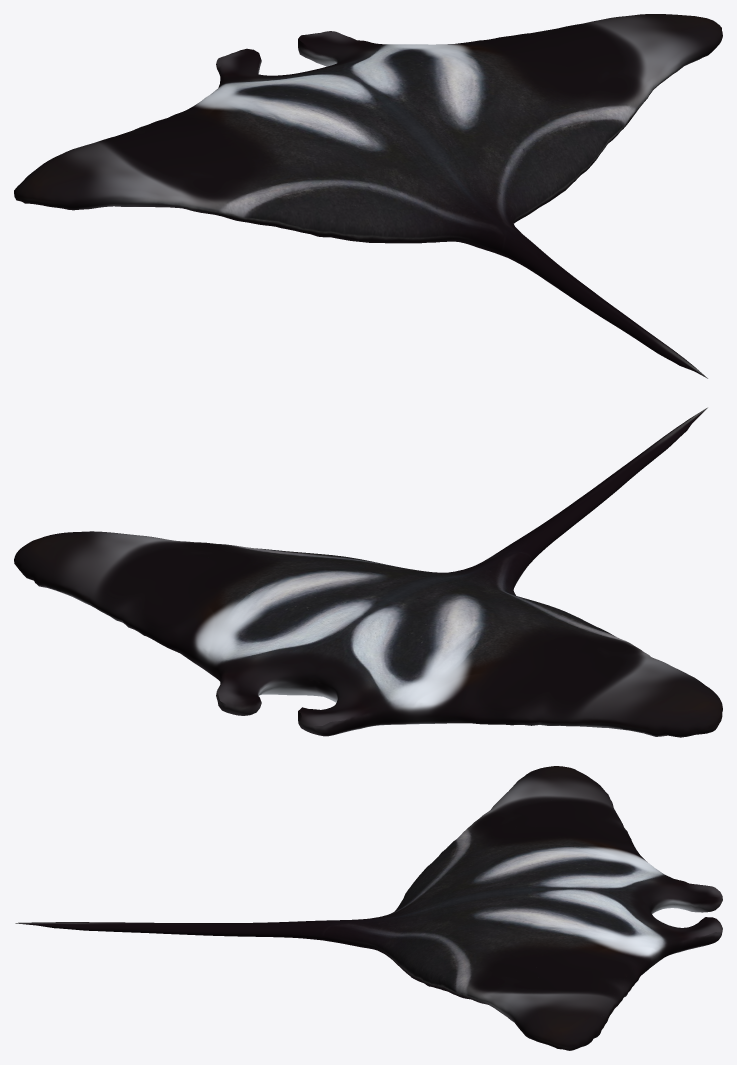
File: manta_ray.glb
3 renders of one model, top to bottom at view 1: azimuth 30°, elevation 25°; view 2: azimuth 150°, elevation 25°; view 3: azimuth 270°, elevation 25°, orthographic. The views are drawn at different scales.
Visible parts, largest first — view 1: Object_2; view 2: Object_2; view 3: Object_2.
Boxes of the visible parts, bbox=[...] form: Object_2: bbox=[14, 14, 722, 378]; Object_2: bbox=[14, 407, 722, 737]; Object_2: bbox=[15, 766, 722, 1050].
Bounding box in the file's own units: 4.19 × 0.4232 × 4.54.
Materials: 1 (1 with a texture image).
